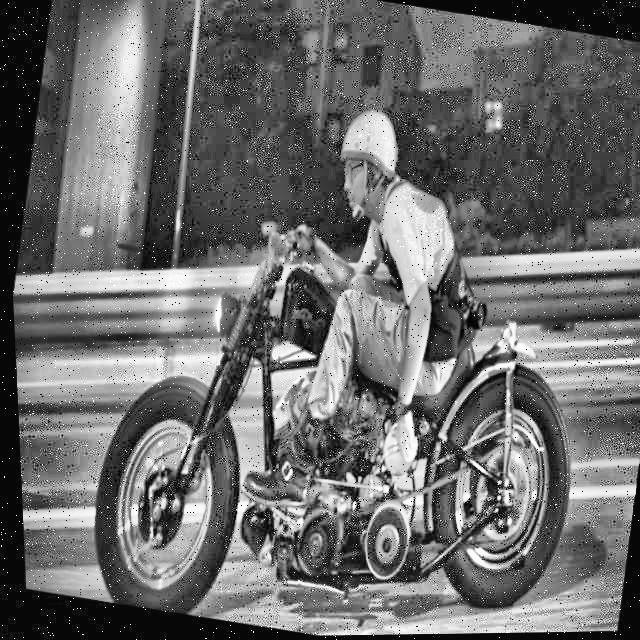Helmet: (321, 99, 412, 233)
